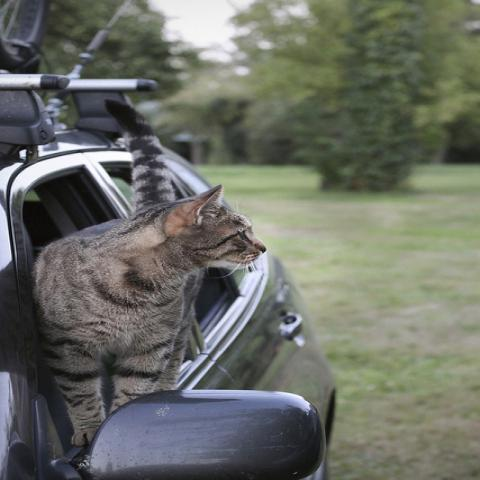car: (0, 142, 345, 475)
